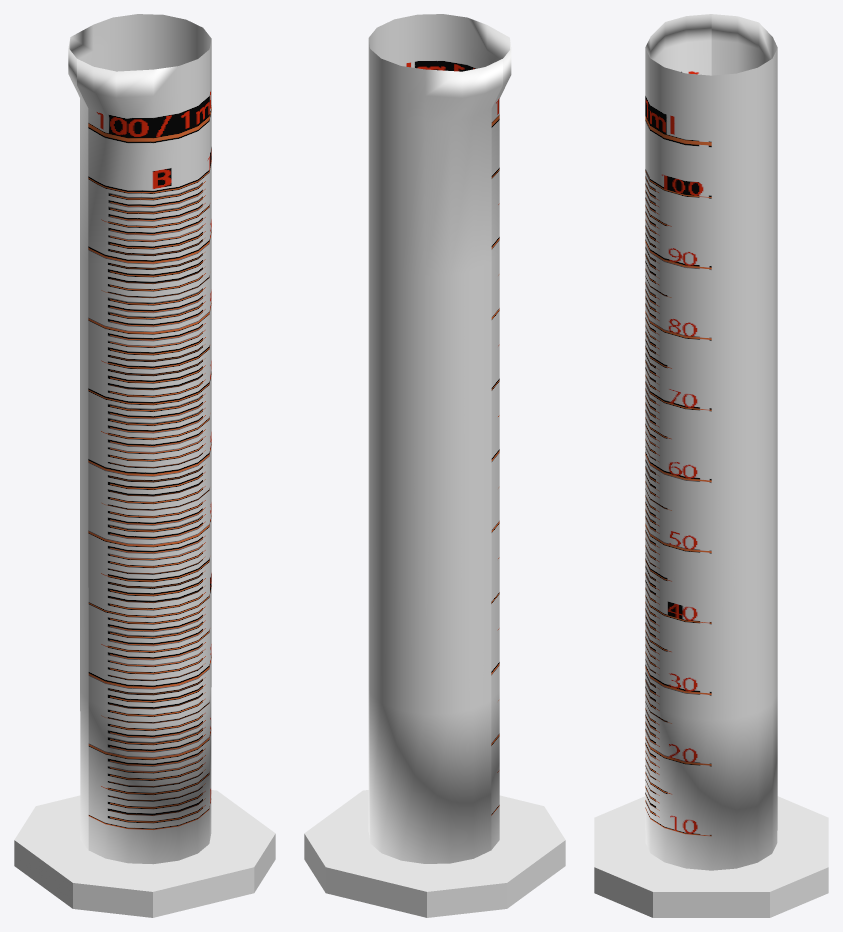
The model's file is graduated cylinder.fbx.
3 renders of one model, left to right at view 1: azimuth 30°, elevation 25°; view 2: azimuth 150°, elevation 25°; view 3: azimuth 270°, elevation 25°, orthographic.
Parts seen in each view (by area): view 1: graduated cylinder; view 2: graduated cylinder; view 3: graduated cylinder.
Part boxes in pixels (bbox=[...]): graduated cylinder: bbox=[14, 14, 275, 917]; graduated cylinder: bbox=[304, 14, 565, 917]; graduated cylinder: bbox=[594, 14, 828, 917].
Bounding box in the file's own units: 5.29 × 20.44 × 5.29.
